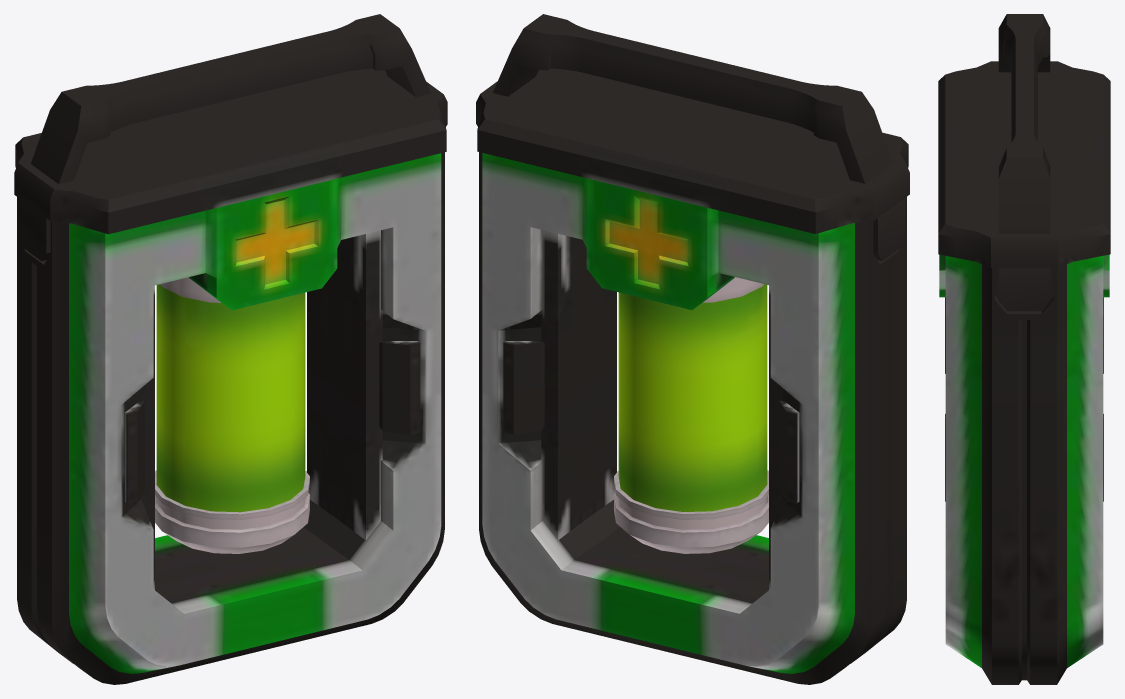
File: Prop_HealthPack.glb
3 views of the same model, side by side, from view 1: azimuth 30°, elevation 25°; view 2: azimuth 150°, elevation 25°; view 3: azimuth 270°, elevation 25° (orthographic). The views are drawn at different scales.
Parts seen in each view (by area): view 1: Prop_HealthPack; view 2: Prop_HealthPack; view 3: Prop_HealthPack.
Boxes of the visible parts, x1=… form: Prop_HealthPack: x1=14, y1=14, x2=447, y2=684; Prop_HealthPack: x1=476, y1=14, x2=909, y2=684; Prop_HealthPack: x1=938, y1=14, x2=1110, y2=684.
Bounding box in the file's own units: 0.4307 × 0.6013 × 0.1745.
1 material, 1 textured.
